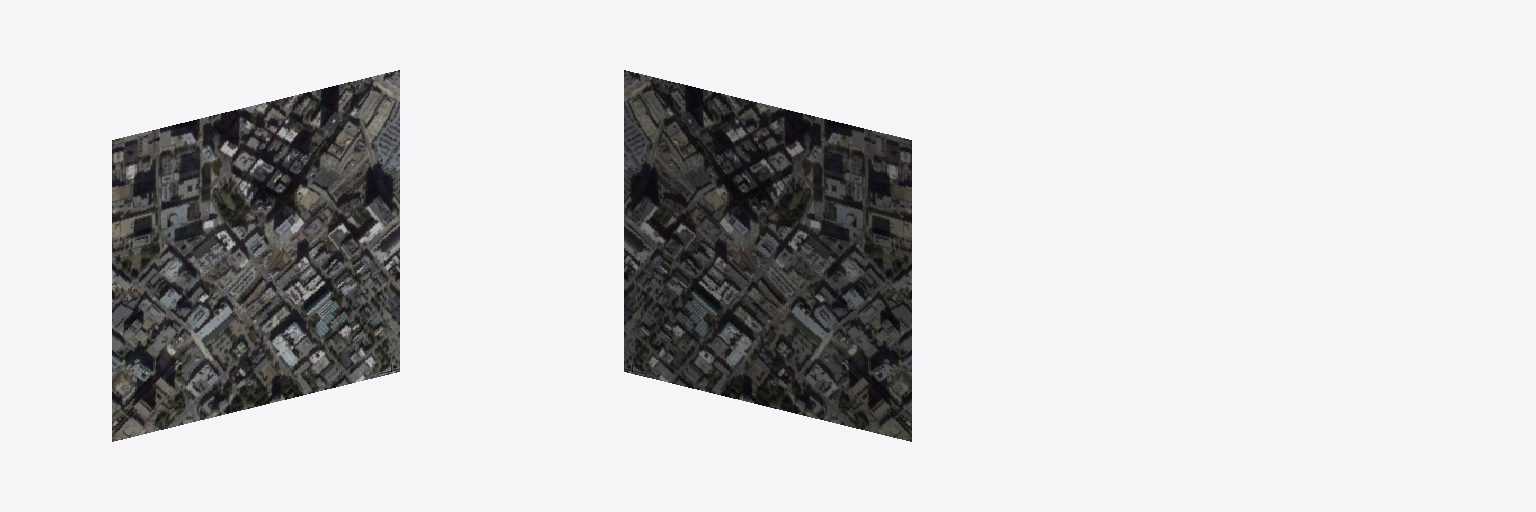
3 views of the same model, side by side, from view 1: azimuth 30°, elevation 25°; view 2: azimuth 150°, elevation 25°; view 3: azimuth 270°, elevation 25° (orthographic).
Size of the model in its own units: 168 by 168 by 0.022.
1 materials, 1 textured.